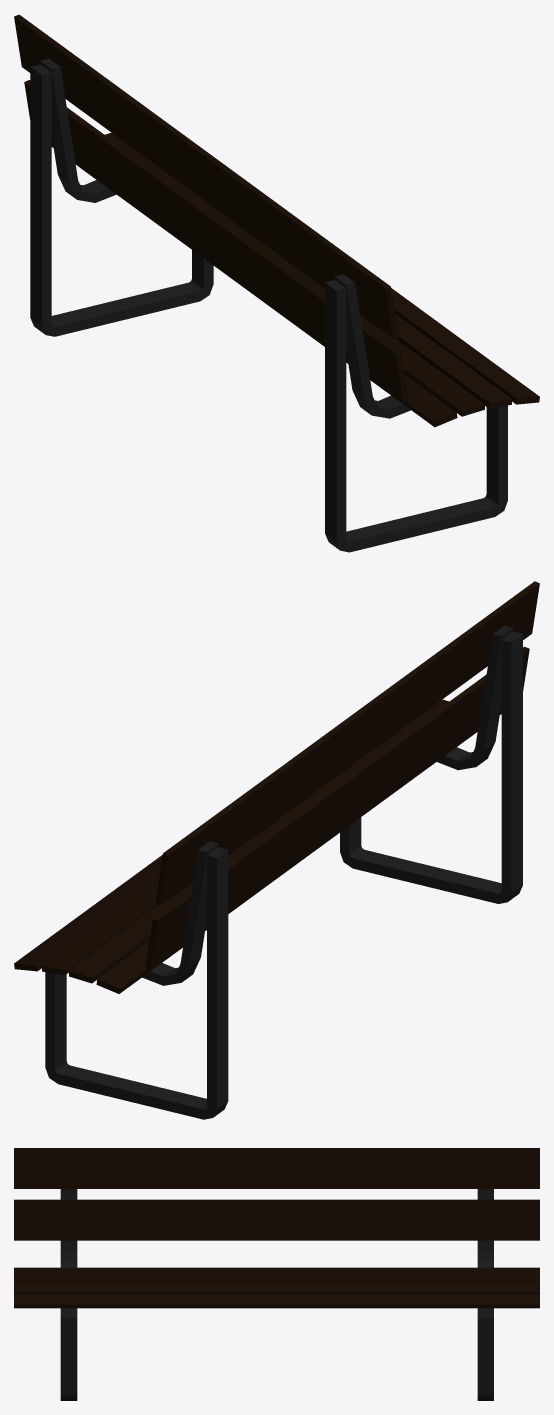
Rendered from bench.FBX.
3 views of the same model, one above another, from view 1: azimuth 30°, elevation 25°; view 2: azimuth 150°, elevation 25°; view 3: azimuth 270°, elevation 25° (orthographic). The views are drawn at different scales.
Parts seen in each view (by area): view 1: bench; view 2: bench; view 3: bench.
Part boxes in pixels (box(x1,y1,x2,y2)): bench: box(14, 14, 539, 552); bench: box(14, 581, 539, 1119); bench: box(14, 1148, 539, 1400).
Bounding box in the file's own units: 48.63 × 78.03 × 182.
